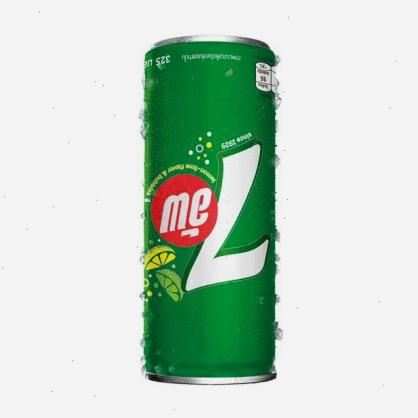can: (140, 34, 280, 390)
